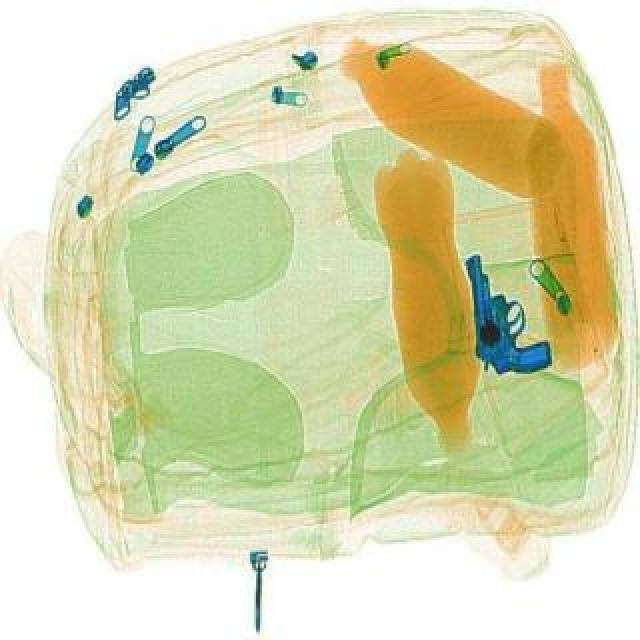gun: (434, 252, 558, 396)
